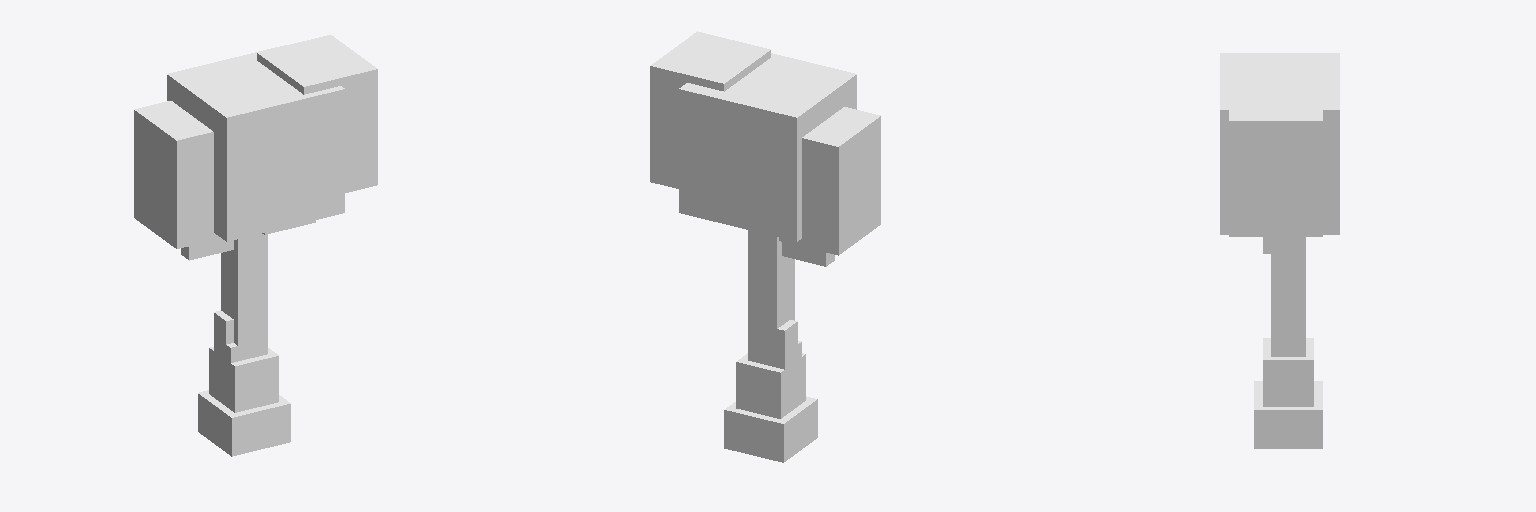
File: tree_XL.obj
3 renders of one model, left to right at view 1: azimuth 30°, elevation 25°; view 2: azimuth 150°, elevation 25°; view 3: azimuth 270°, elevation 25°, orthographic.
Visible parts, largest first — view 1: object 1; view 2: object 1; view 3: object 1.
Part boxes in pixels (x1,y1,x2,y2): object 1: (134,35,377,456); object 1: (650,31,880,462); object 1: (1220,53,1339,448).
Size of the model in its own units: 2.6 by 4.7 by 1.4.